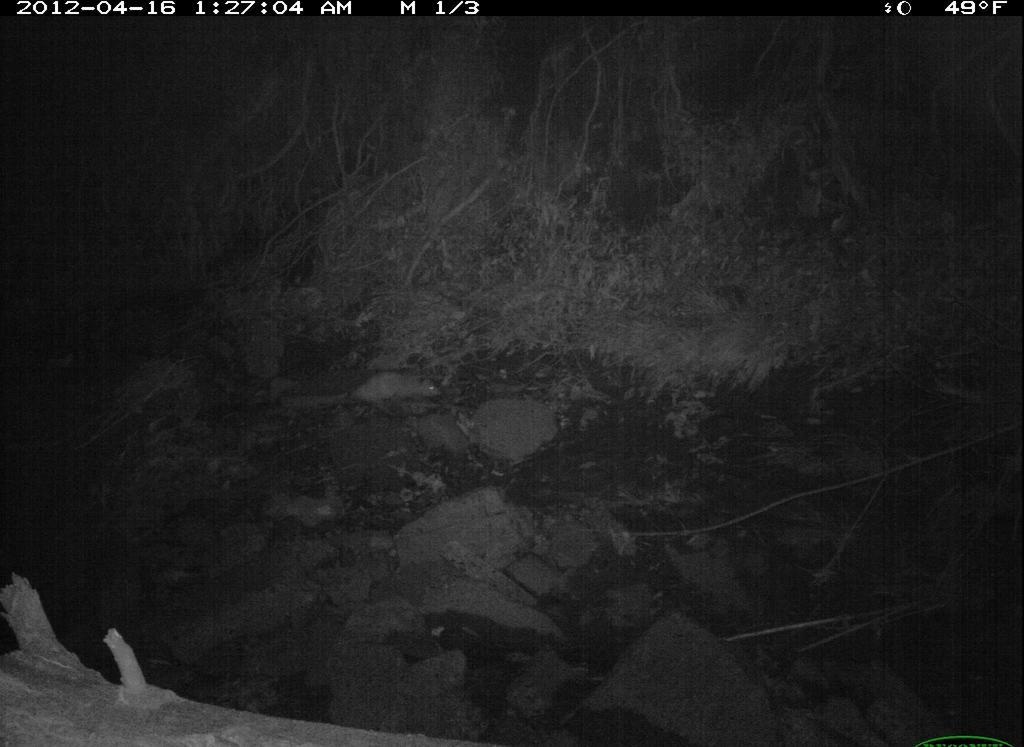opossum: (300, 368, 455, 422)
